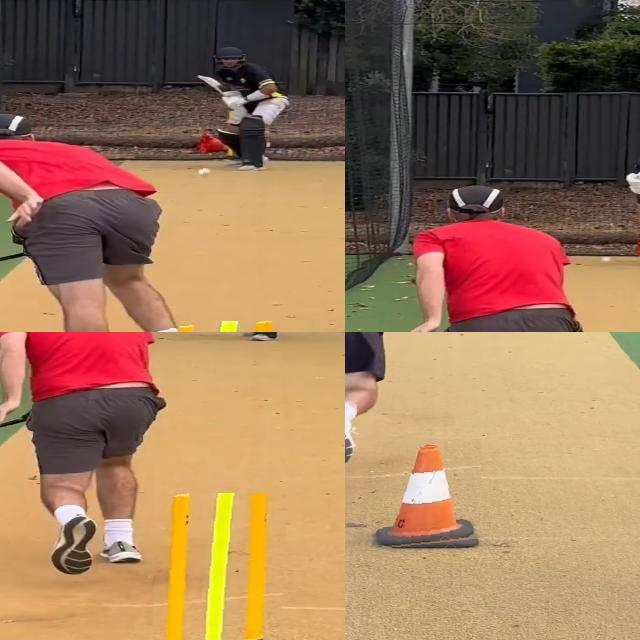Cricket ball: (196, 168, 212, 177), (601, 257, 613, 264)
Stumps: (153, 492, 288, 640), (372, 439, 483, 550)
